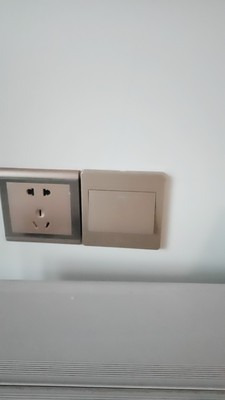switch: (87, 182, 162, 240)
